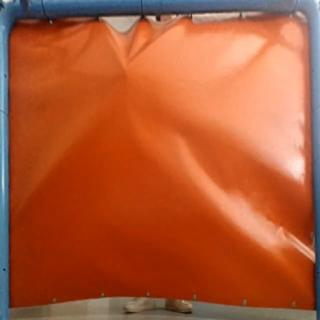Hit-hRxx: (119, 64, 134, 82)
